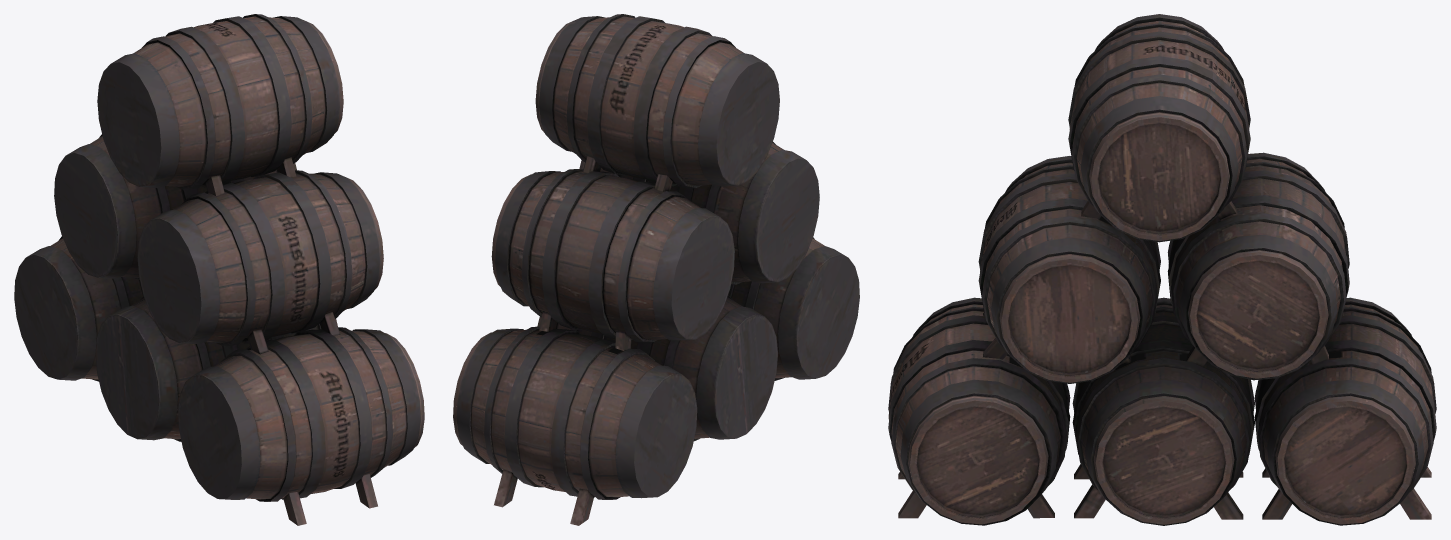
The model's file is beer_barrels.glb.
The picture shows the model from 3 angles, left to right: view 1: azimuth 30°, elevation 25°; view 2: azimuth 150°, elevation 25°; view 3: azimuth 270°, elevation 25°; orthographic projection. The views are drawn at different scales.
Parts seen in each view (by area): view 1: beer_barrels; view 2: beer_barrels; view 3: beer_barrels.
Part boxes in pixels (box(x1,y1,x2,y2)): beer_barrels: box(14, 14, 424, 525); beer_barrels: box(453, 14, 859, 525); beer_barrels: box(888, 14, 1436, 525).
Size of the model in its own units: 1.25 by 2.62 by 2.89.
1 material, 1 textured.
